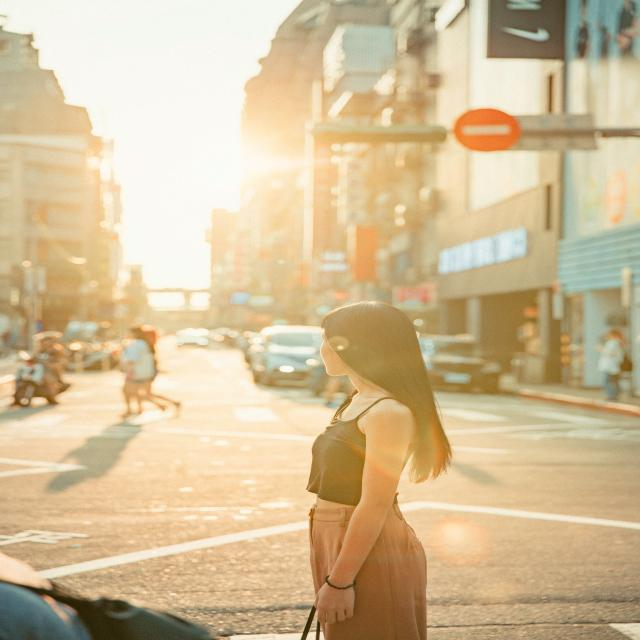adult: (307, 299, 449, 640)
